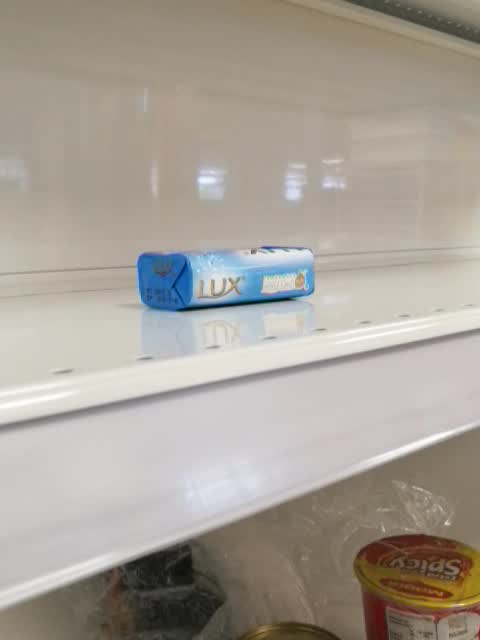soap: (134, 243, 316, 313)
